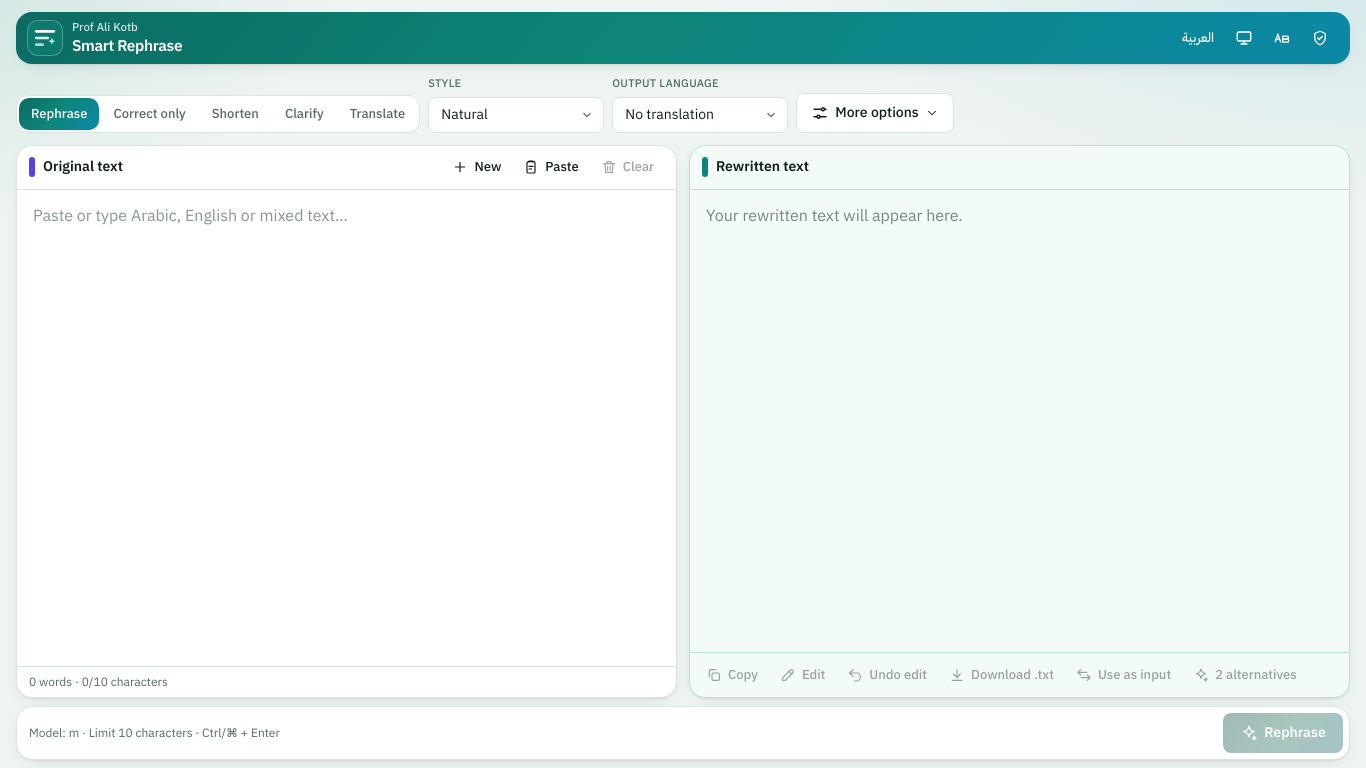
Test: App › over-limit input is never truncated and blocks submission
In the text box named "Original text": (346, 428) top-left (17, 190), bottom-right (676, 666), type "12345678901234"
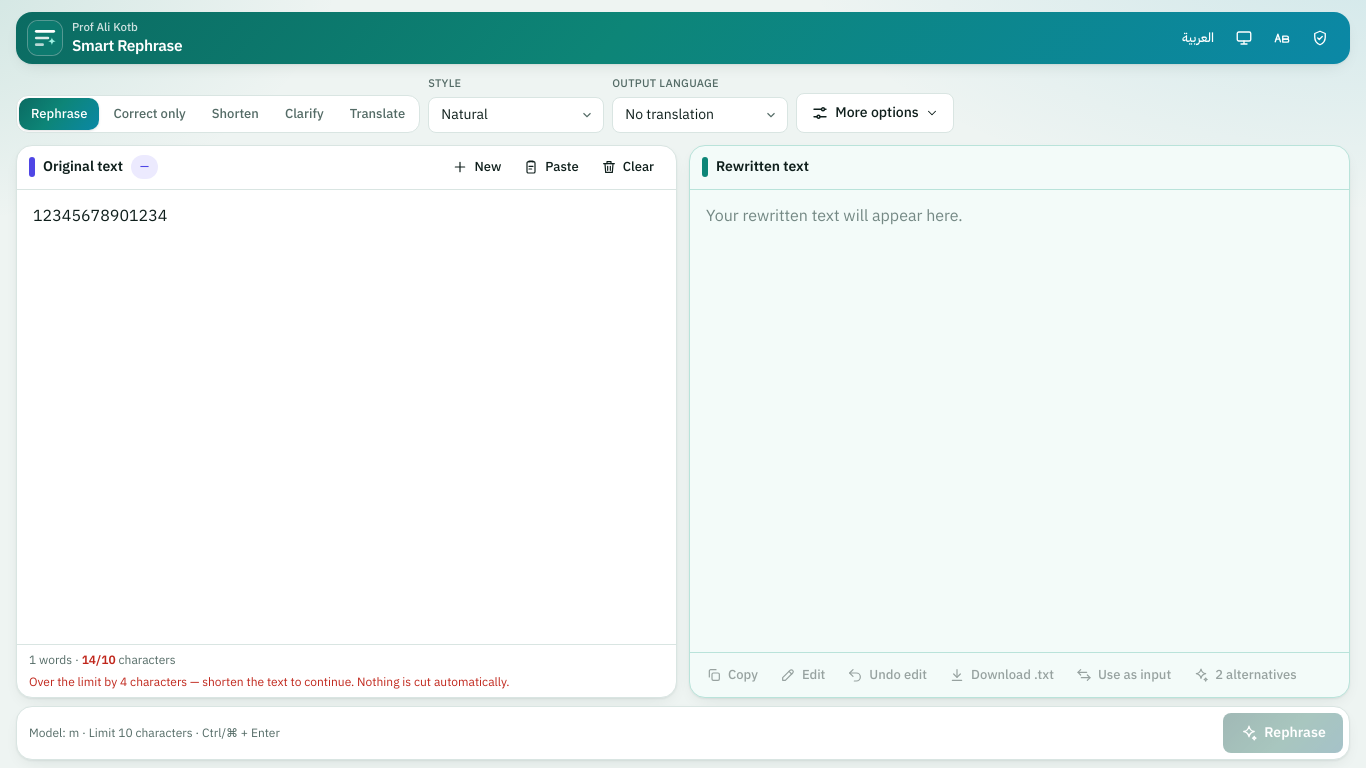
Expected: the button "Rephrase" is disabled, top-left (1223, 713), bottom-right (1343, 753)
Result: the 1st message shows "Over the limit by 4" at top-left (29, 673), bottom-right (510, 691)
